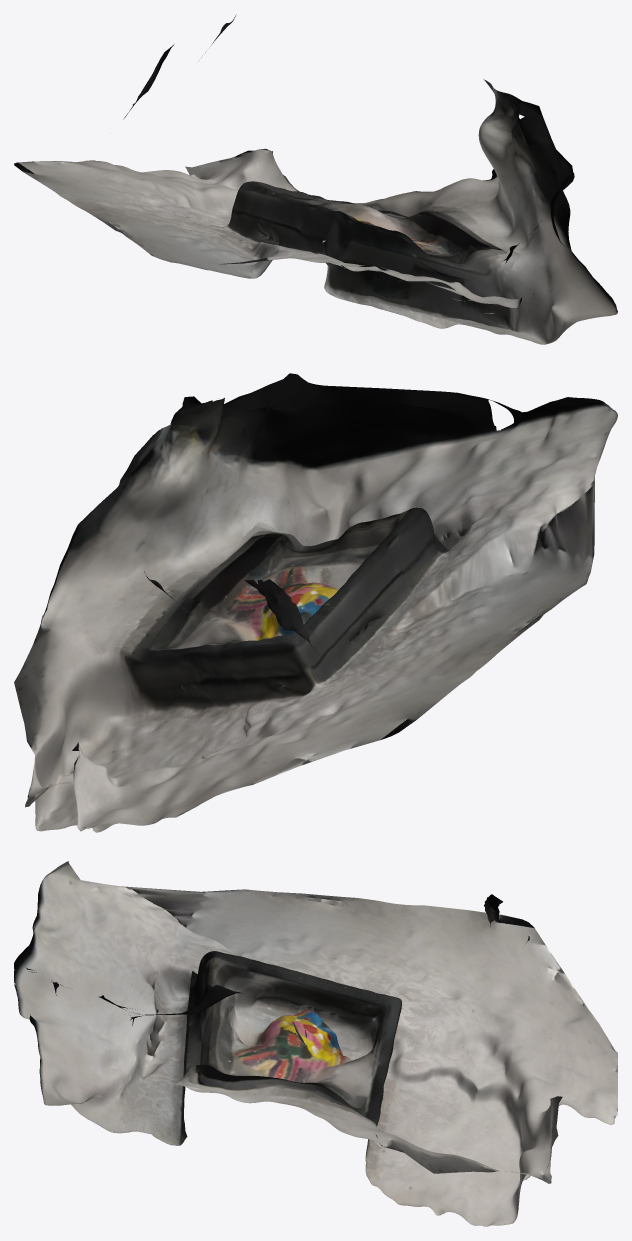
3 views of the same model, one above another, from view 1: azimuth 30°, elevation 25°; view 2: azimuth 150°, elevation 25°; view 3: azimuth 270°, elevation 25° (orthographic). The views are drawn at different scales.
Size of the model in its own units: 1.31 by 0.7975 by 1.8.
1 material, 1 textured.
